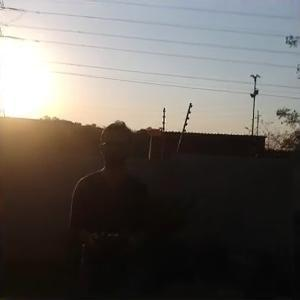follow: (60, 114, 153, 298)
